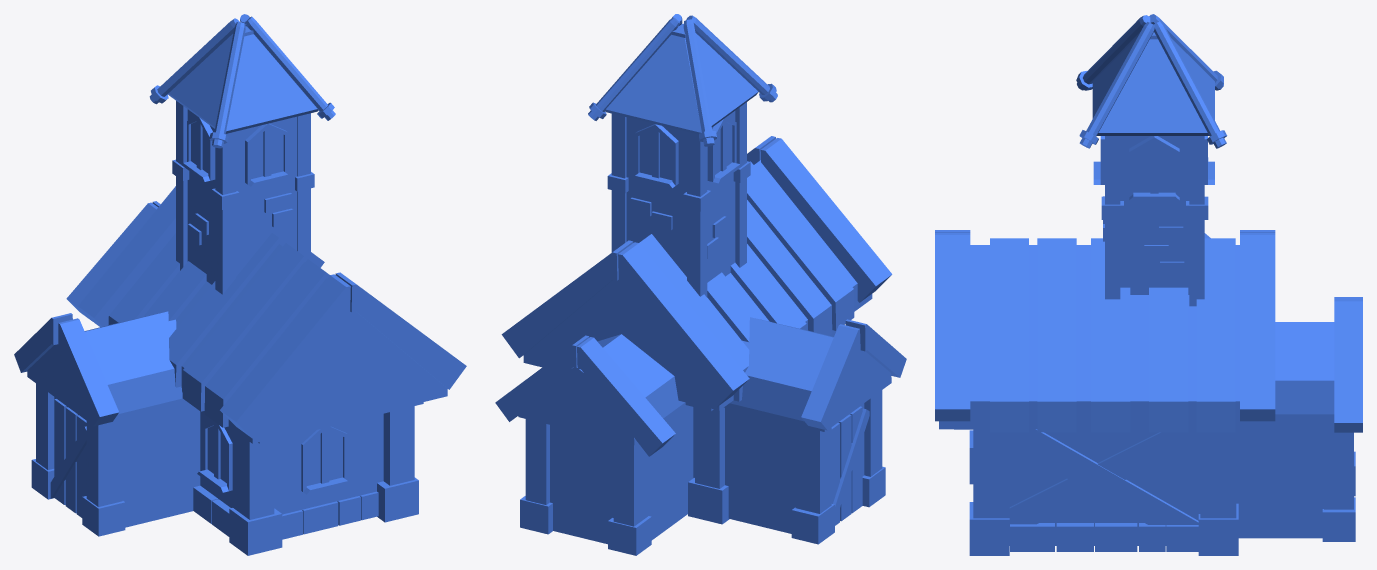
The model's file is Keep_Variant2.fbx.
3 renders of one model, left to right at view 1: azimuth 30°, elevation 25°; view 2: azimuth 150°, elevation 25°; view 3: azimuth 270°, elevation 25°, orthographic. The views are drawn at different scales.
Parts seen in each view (by area): view 1: Keep_Variant2; view 2: Keep_Variant2; view 3: Keep_Variant2.
Boxes of the visible parts, x1=… form: Keep_Variant2: x1=14, y1=14, x2=466, y2=555; Keep_Variant2: x1=495, y1=14, x2=906, y2=555; Keep_Variant2: x1=935, y1=14, x2=1362, y2=555.
Bounding box in the file's own units: 359 × 512 × 405.
